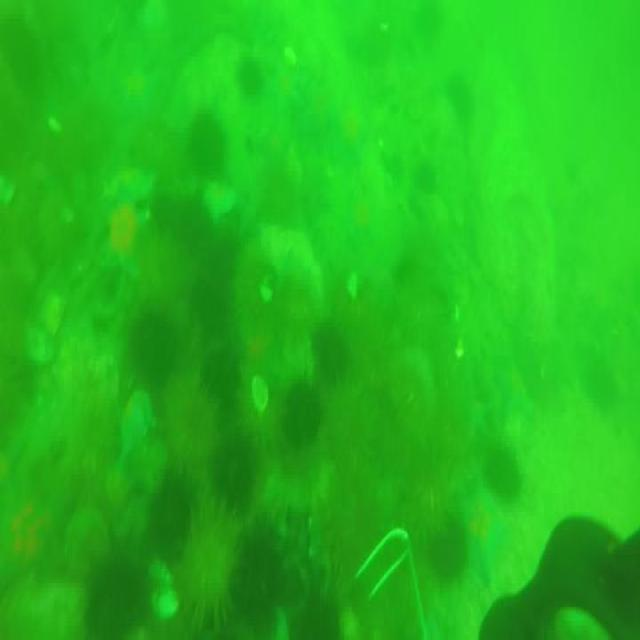echinus: (194, 237, 250, 343), (122, 308, 180, 406), (82, 564, 153, 640), (232, 514, 284, 616), (210, 439, 262, 536), (150, 177, 210, 250), (152, 462, 193, 560), (283, 386, 329, 456), (201, 340, 243, 408), (478, 442, 524, 502), (430, 515, 470, 582), (186, 120, 228, 179), (308, 326, 354, 379), (585, 366, 622, 416), (230, 54, 268, 85), (447, 65, 468, 118)
scallop: (151, 566, 180, 619), (22, 321, 55, 363), (251, 375, 270, 417), (260, 270, 280, 305), (341, 274, 360, 304), (282, 44, 300, 70), (47, 116, 63, 134)
starfish: (2, 479, 60, 572), (100, 184, 150, 274)
